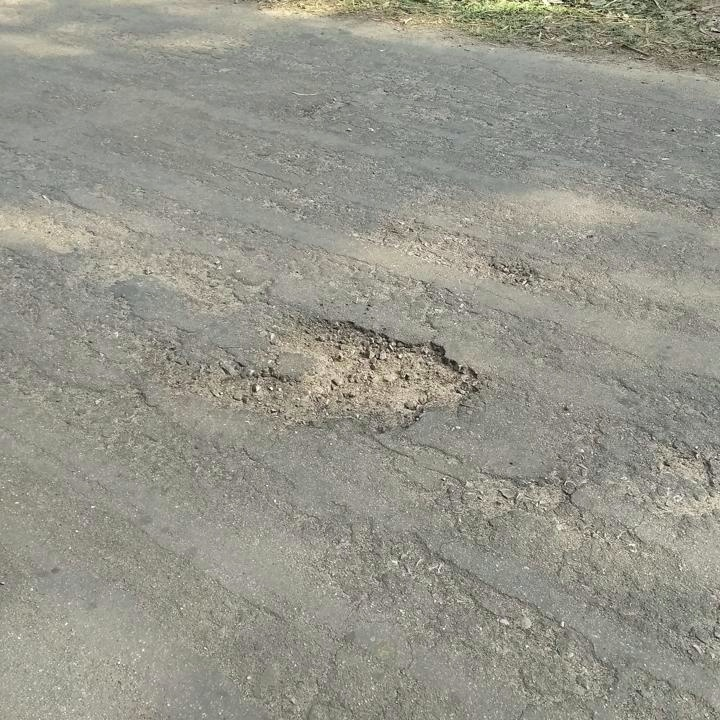pothole: (201, 310, 478, 434)
